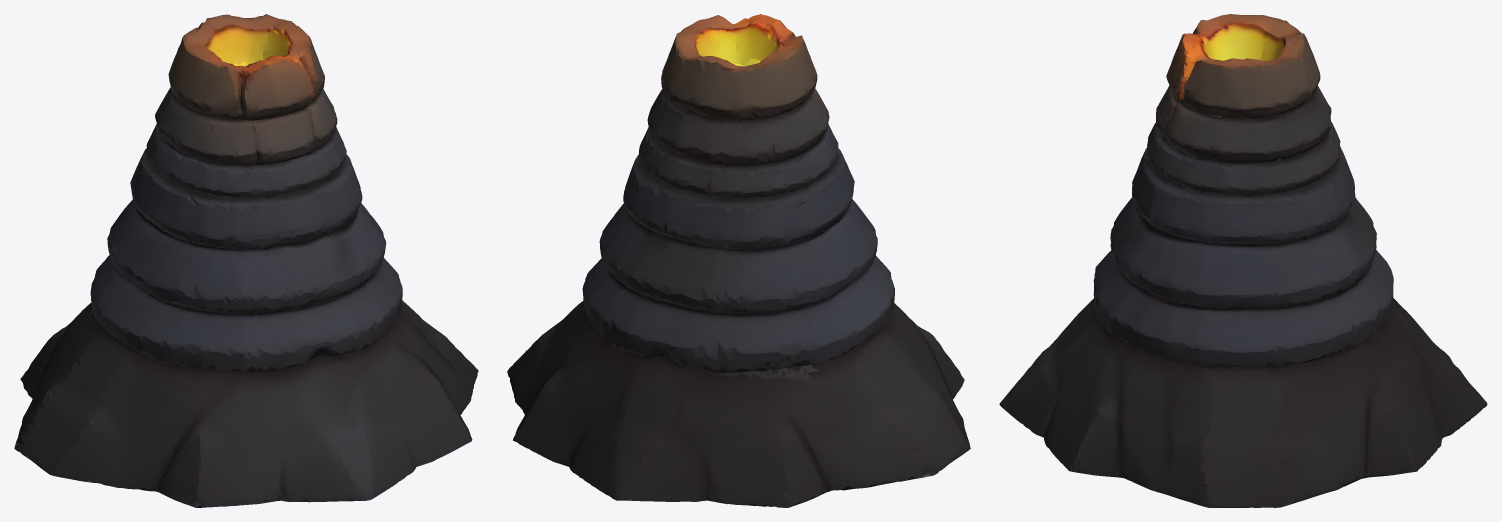
Rendered from rodin_Forge_Vent_raw.glb.
3 views of the same model, side by side, from view 1: azimuth 30°, elevation 25°; view 2: azimuth 150°, elevation 25°; view 3: azimuth 270°, elevation 25° (orthographic).
Visible parts, largest first — view 1: model; view 2: model; view 3: model.
Part boxes in pixels (left/top/right/bottom): model: left=14, top=14, right=478, bottom=507; model: left=507, top=14, right=970, bottom=507; model: left=999, top=14, right=1487, bottom=507.
Bounding box in the file's own units: 1.9 × 1.59 × 1.9.
Materials: 1 (1 with a texture image).
